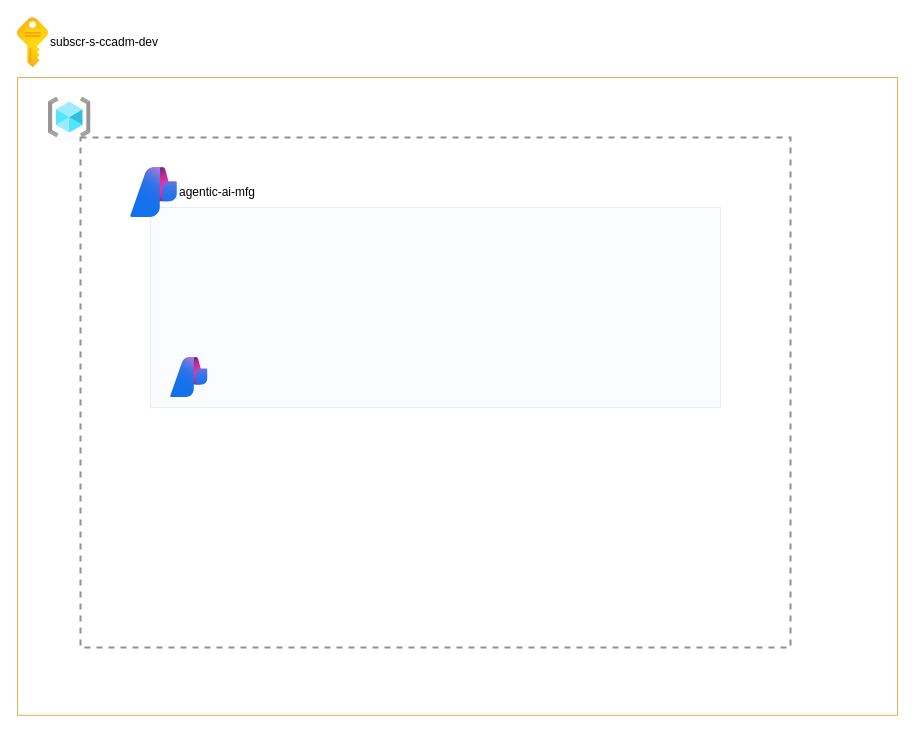
This 915x733 diagram has some shape labels left out. The shapes that lost their labels are listed below. From the top down, each one's centre as x and y in pixels, then its label:
At (x=69, y=117): "rg-agentic-ai-mfg".
At (x=189, y=377): "agentic-ai-mfg-project".
